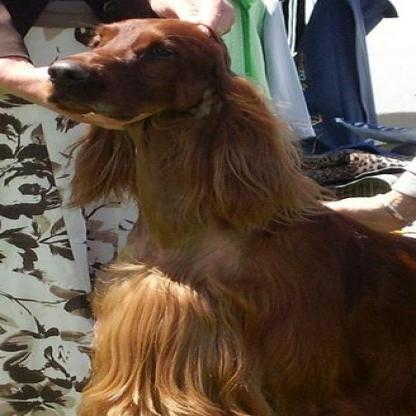Irish_setter: (41, 14, 412, 414)
